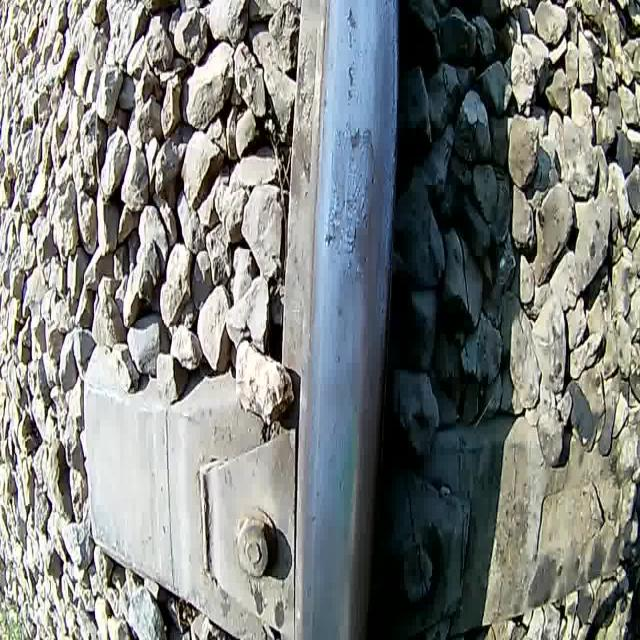Squats: (350, 153, 394, 640), (323, 121, 379, 281), (339, 1, 362, 113)
